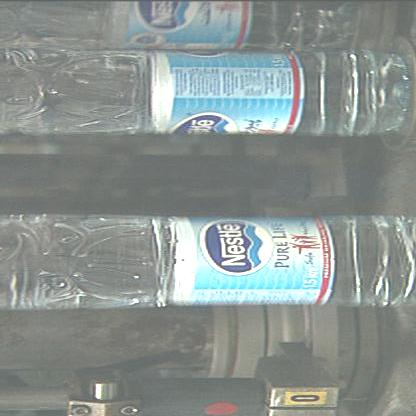bottle: (0, 42, 415, 139), (0, 220, 415, 304), (0, 0, 415, 51)
